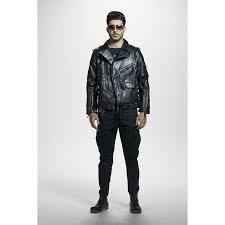jacket: (87, 43, 151, 120)
pants: (97, 112, 144, 201)
